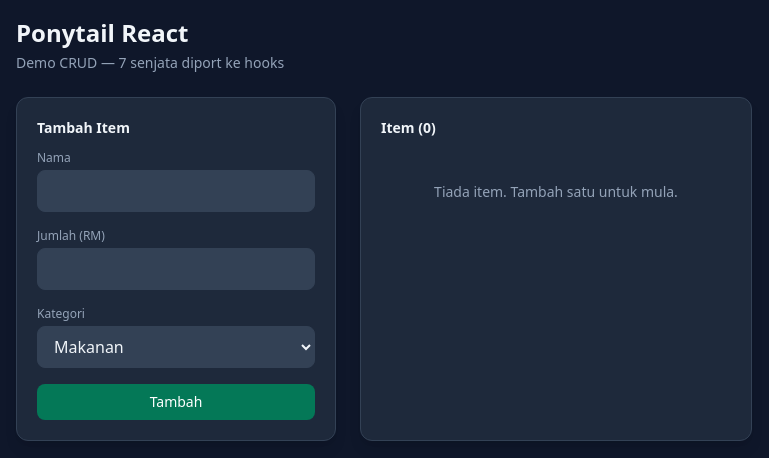
Test: App interaction (React port) › adds an item and shows it in the list
Expected: the heading "Ponytail React" is shown, left=16, top=16, right=188, bottom=49
Type "Nasi Lemak" into the field named "Nama item" at (176, 191), box left=37, top=170, right=315, bottom=212
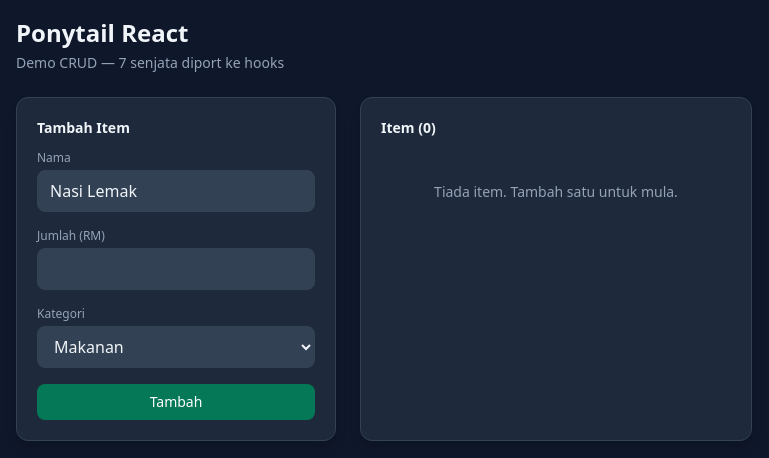
Type "7.50" into the number field named "Jumlah dalam Ringgit" at (176, 269), box left=37, top=248, right=315, bottom=290
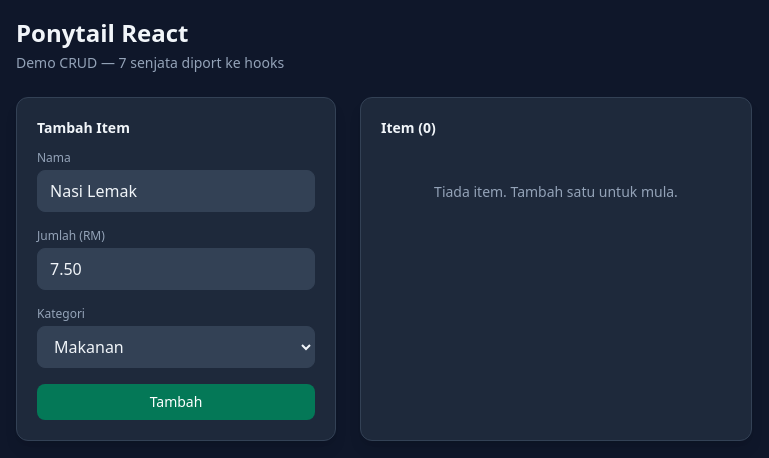
Click the button "Tambah" at (176, 402), box left=37, top=384, right=315, bottom=420
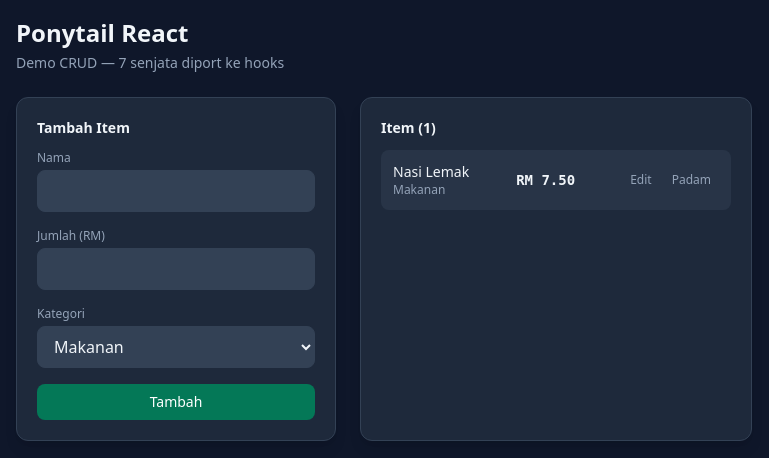
Expected: the text "Nasi Lemak" is shown, left=393, top=162, right=469, bottom=182
Expected: the text "RM 7.50" is shown, left=516, top=170, right=575, bottom=190
